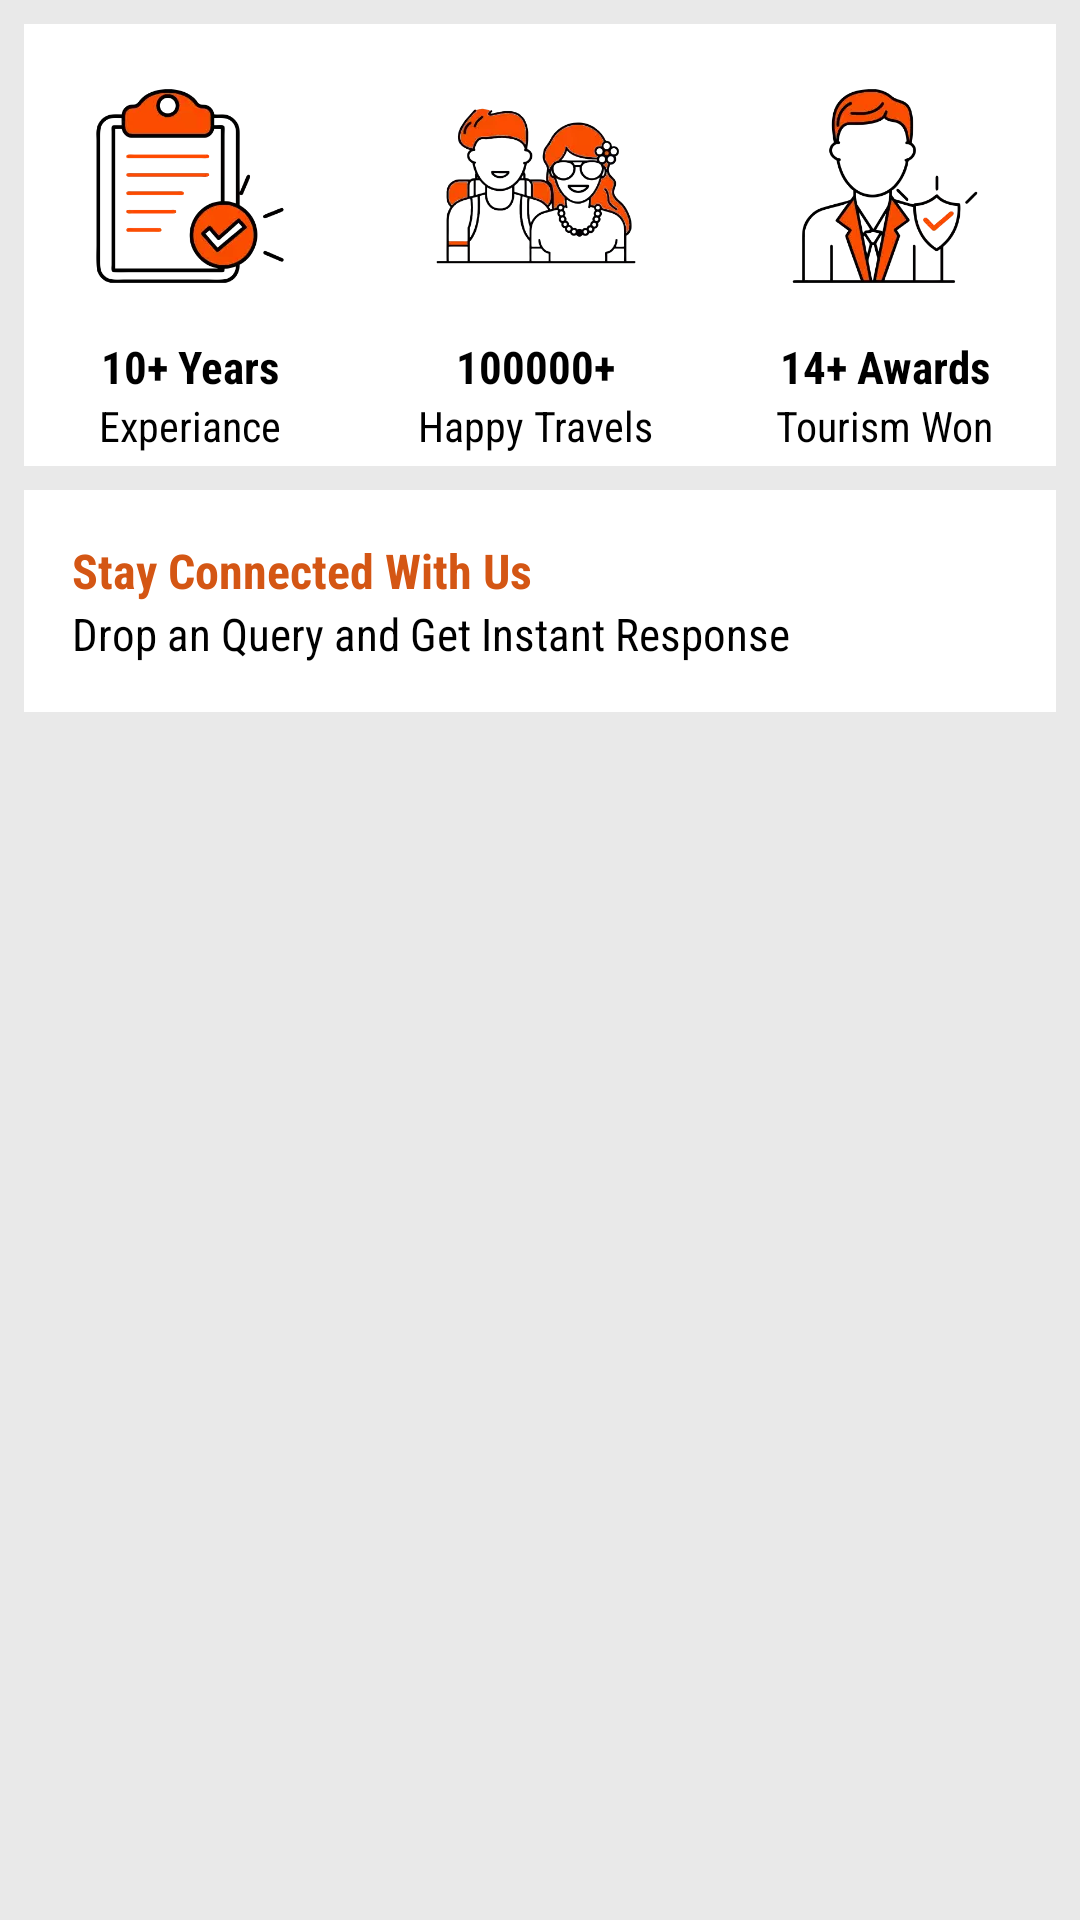

Named icons in this screenshot (1080px x 1920px) and their bounding boxes, (x1, y1, x2, y2):
experience control: (96, 89, 284, 283)
verified agent: (792, 89, 978, 283)
